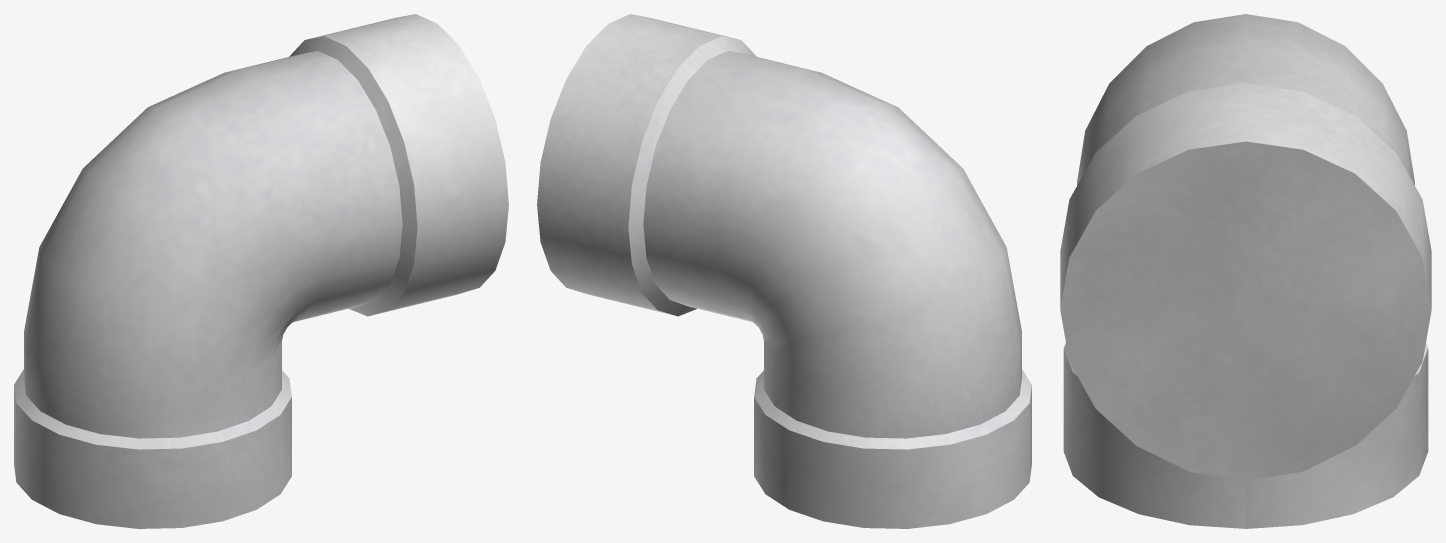
The model's file is pipe_90.fbx.
3 renders of one model, left to right at view 1: azimuth 30°, elevation 25°; view 2: azimuth 150°, elevation 25°; view 3: azimuth 270°, elevation 25°, orthographic. The views are drawn at different scales.
Visible parts, largest first — view 1: pCylinder1; view 2: pCylinder1; view 3: pCylinder1.
Boxes of the visible parts, left/top/right/bottom form: pCylinder1: left=14, top=14, right=508, bottom=528; pCylinder1: left=537, top=14, right=1031, bottom=528; pCylinder1: left=1060, top=14, right=1431, bottom=528.
Bounding box in the file's own units: 2.07 × 1.84 × 1.26.
1 material, 1 textured.
